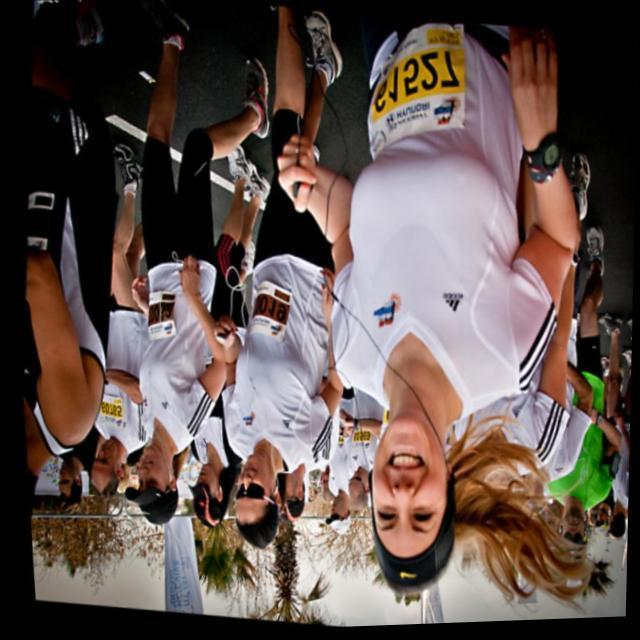dorsal: (351, 2, 486, 175), (238, 270, 300, 344), (136, 280, 180, 350), (93, 390, 126, 424), (346, 424, 370, 450)
